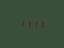one: (30, 19, 35, 28), (18, 19, 23, 27), (24, 19, 29, 27)
three: (36, 20, 41, 28)
